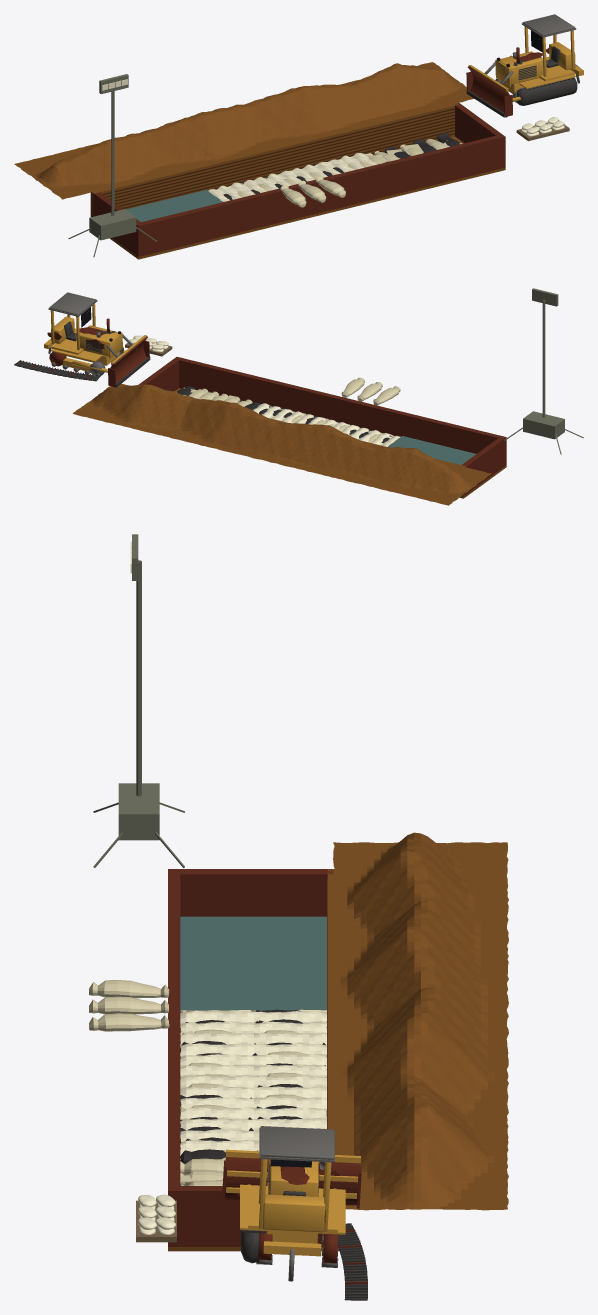
File: mass_grave.glb
3 renders of one model, top to bottom at view 1: azimuth 30°, elevation 25°; view 2: azimuth 150°, elevation 25°; view 3: azimuth 270°, elevation 25°, orthographic. The views are drawn at different scales.
Parts seen in each view (by area): view 1: mass_grave; view 2: mass_grave; view 3: mass_grave.
Boxes of the visible parts, x1=… form: mass_grave: x1=14, y1=14, x2=583, y2=259; mass_grave: x1=14, y1=288, x2=583, y2=505; mass_grave: x1=89, y1=534, x2=508, y2=1300.
Size of the model in its own units: 28.29 by 9.52 by 10.26.
